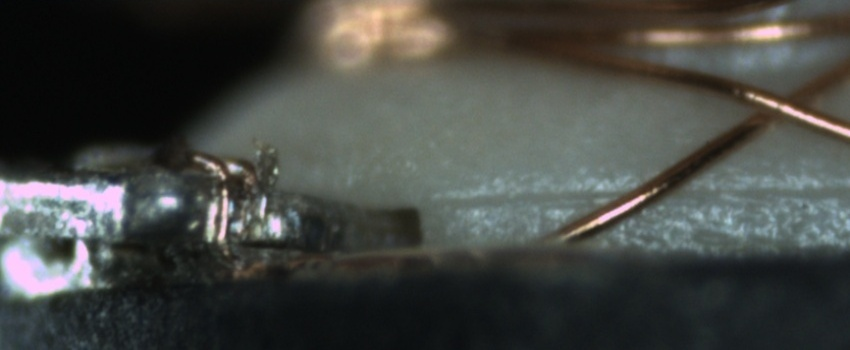CL: (732, 74, 826, 135)
DL: (453, 158, 849, 226)
TE: (184, 146, 271, 256)
